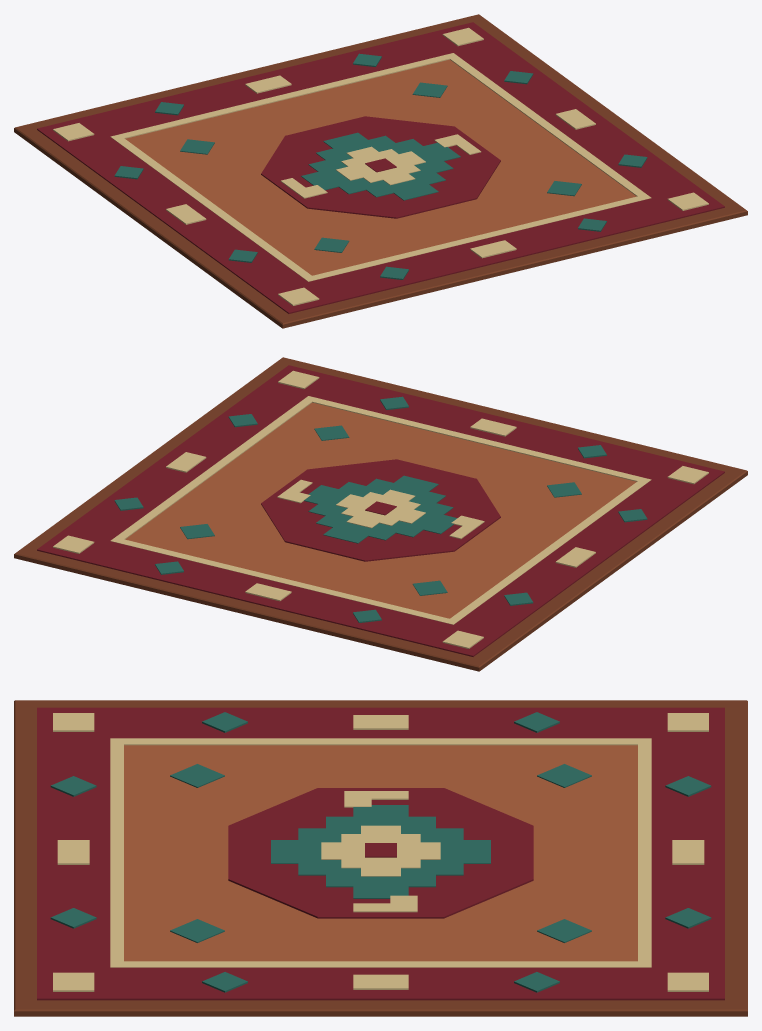
Rendered from mdvl_interiors_rug_01.glb.
The picture shows the model from 3 angles, top to bottom: view 1: azimuth 30°, elevation 25°; view 2: azimuth 150°, elevation 25°; view 3: azimuth 270°, elevation 25°; orthographic projection. The views are drawn at different scales.
Visible parts, largest first — view 1: mdvl_interiors_rug_01; view 2: mdvl_interiors_rug_01; view 3: mdvl_interiors_rug_01.
Part boxes in pixels (bbox=[...]): mdvl_interiors_rug_01: bbox=[14, 14, 747, 328]; mdvl_interiors_rug_01: bbox=[14, 357, 747, 671]; mdvl_interiors_rug_01: bbox=[14, 700, 747, 1016].
Bounding box in the file's own units: 1.6 × 0.028 × 1.6.
1 material, 1 textured.
